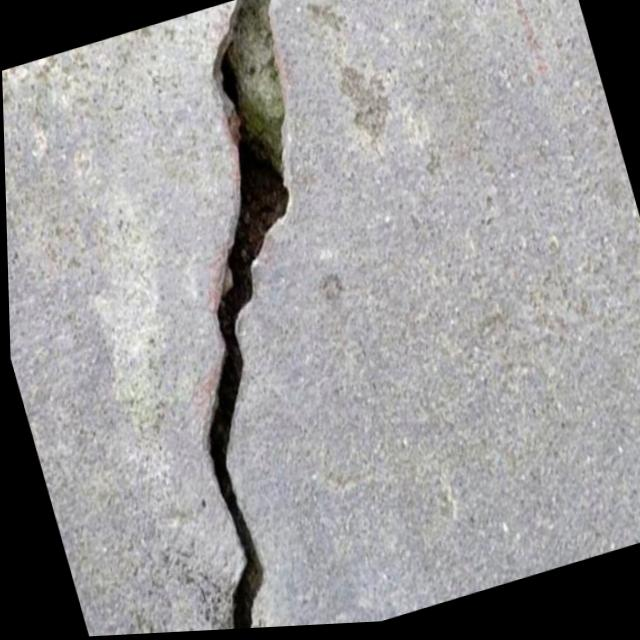Crack: (187, 0, 307, 633)
